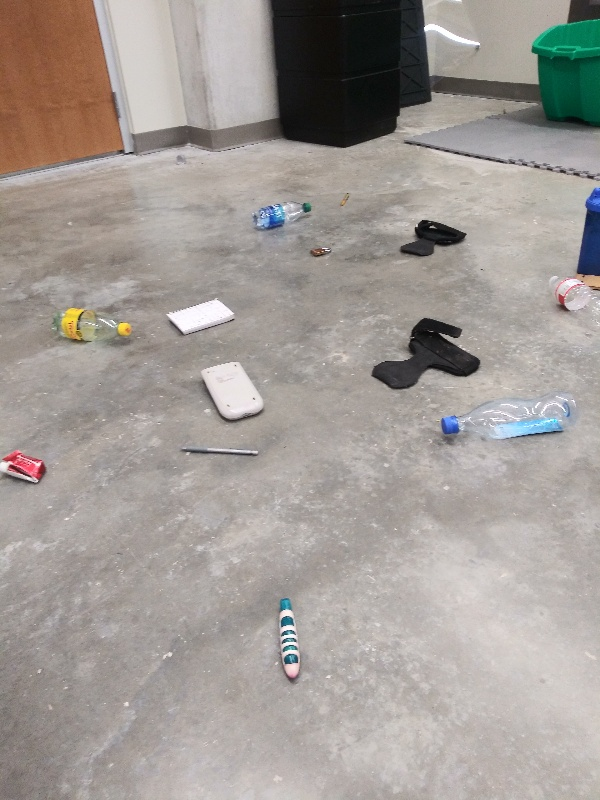bottle: (435, 389, 580, 443), (47, 304, 137, 344), (546, 270, 600, 333), (248, 197, 316, 233)
